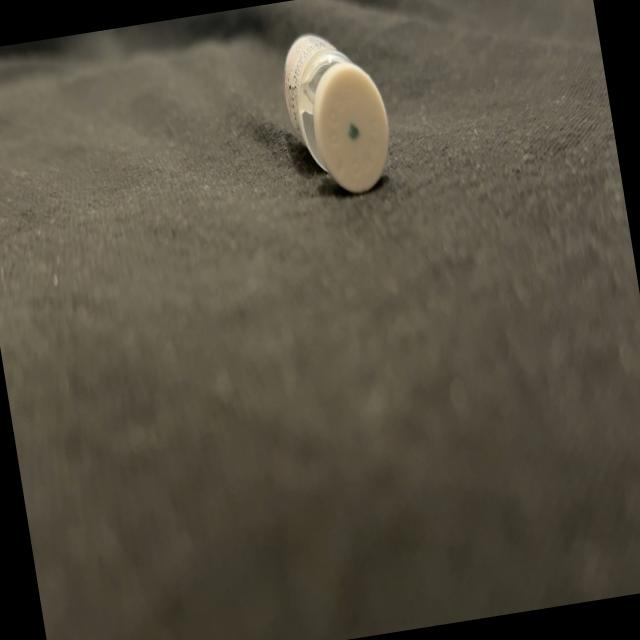fentanl_citrat: (278, 26, 398, 201)
